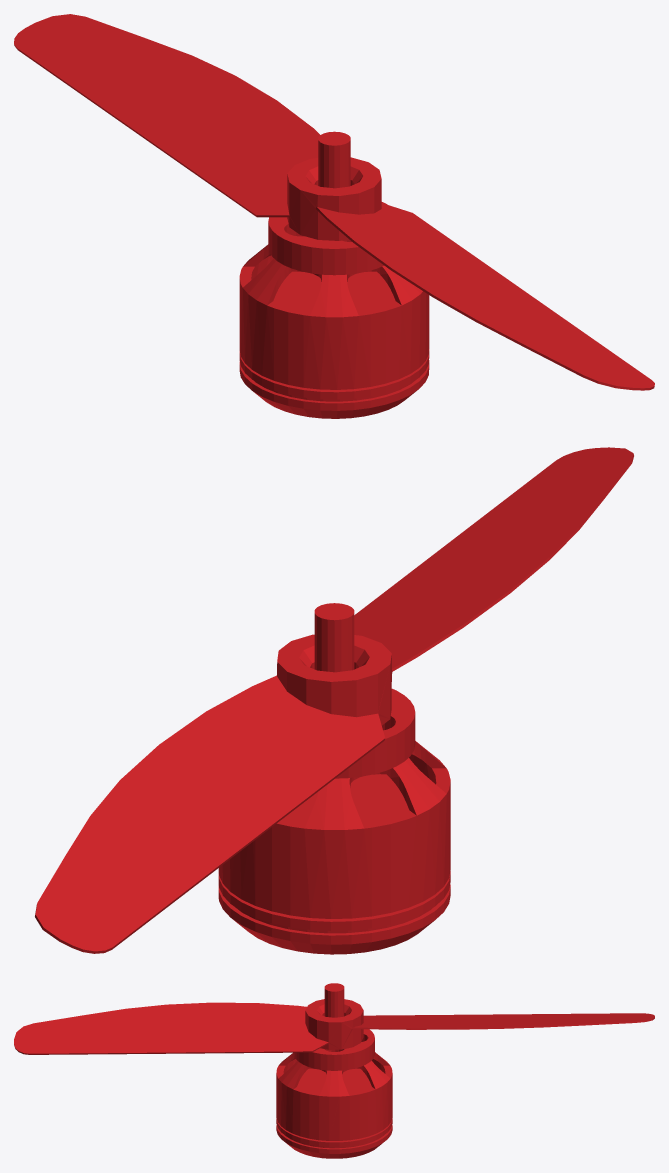
File: motor1.dae
The picture shows the model from 3 angles, top to bottom: view 1: azimuth 30°, elevation 25°; view 2: azimuth 150°, elevation 25°; view 3: azimuth 270°, elevation 25°; orthographic projection. The views are drawn at different scales.
Visible parts, largest first — view 1: motor1; view 2: motor1; view 3: motor1.
Part boxes in pixels (bbox=[...]): motor1: bbox=[14, 14, 654, 418]; motor1: bbox=[35, 447, 633, 954]; motor1: bbox=[14, 983, 654, 1158].
Size of the model in its own units: 0.023 by 0.1268 by 0.0348.
